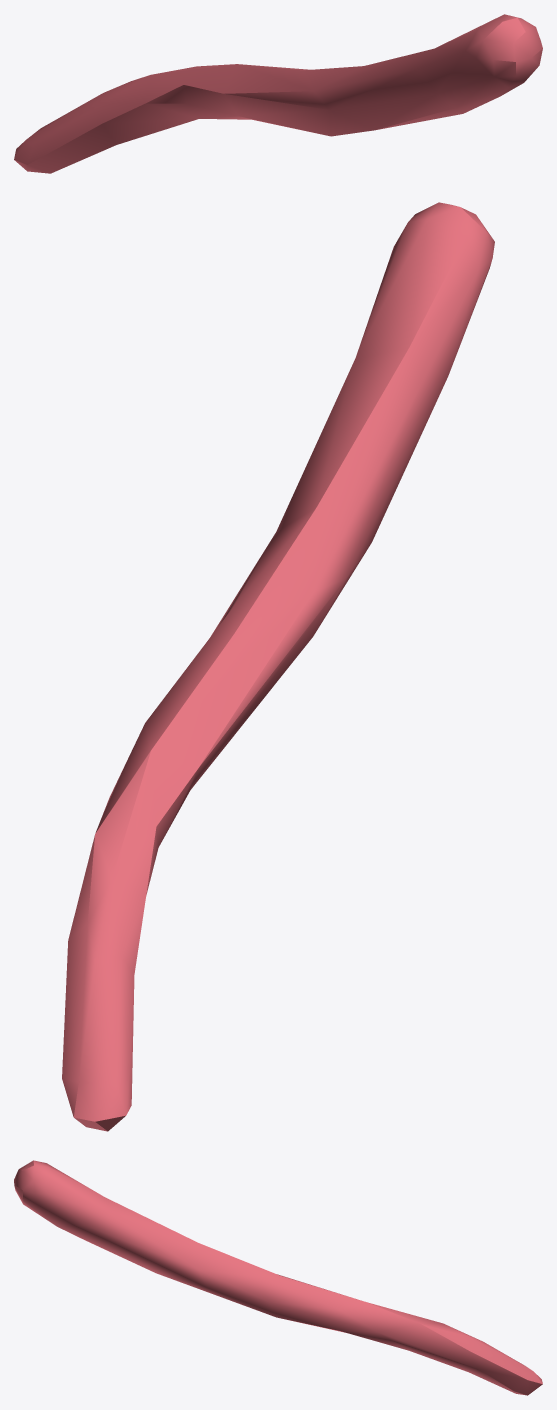
The model's file is fma3860_fj2639.glb.
3 views of the same model, one above another, from view 1: azimuth 30°, elevation 25°; view 2: azimuth 150°, elevation 25°; view 3: azimuth 270°, elevation 25° (orthographic). The views are drawn at different scales.
Parts seen in each view (by area): view 1: FMA3860_FJ2639; view 2: FMA3860_FJ2639; view 3: FMA3860_FJ2639.
Boxes of the visible parts, <box> form: FMA3860_FJ2639: <box>14,14,542,173</box>; FMA3860_FJ2639: <box>62,202,494,1131</box>; FMA3860_FJ2639: <box>14,1160,542,1395</box>.
Bounding box in the file's own units: 0.0021 × 0.00496 × 0.00899.
